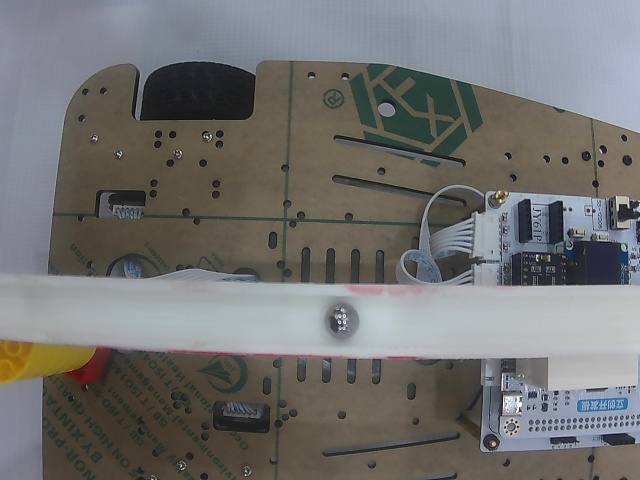steelball: (326, 303, 358, 337)
